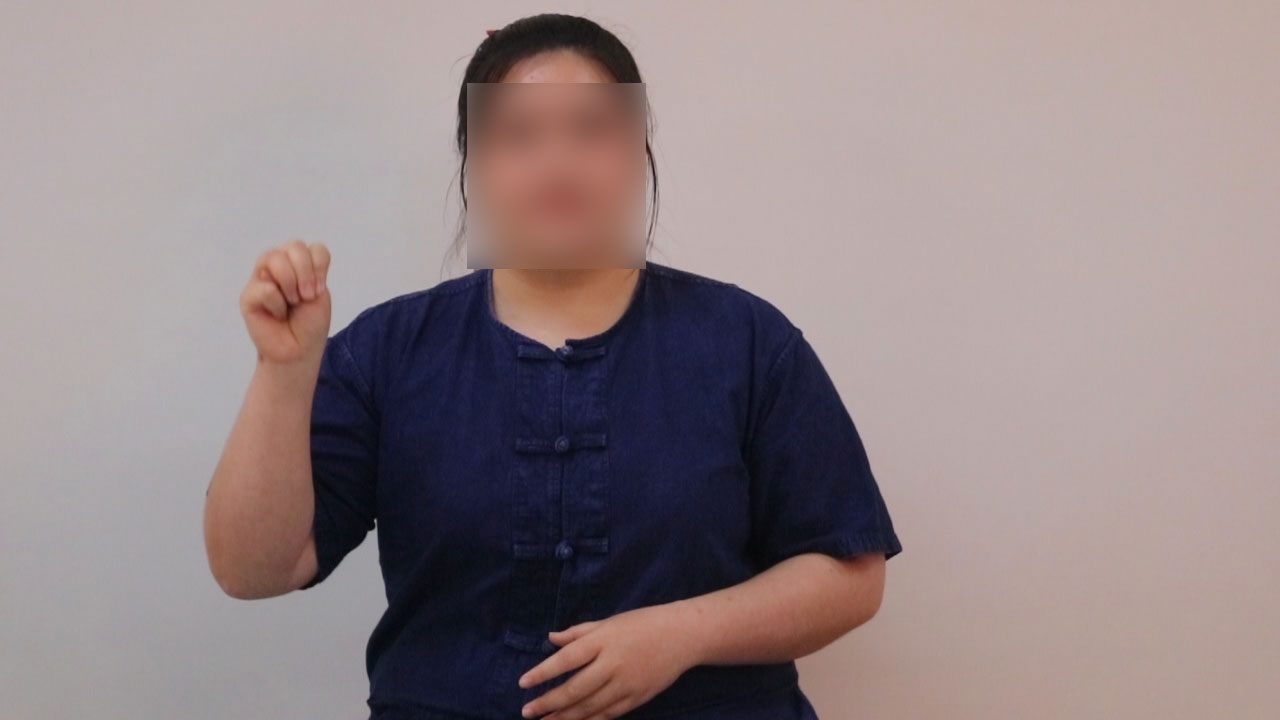mor: (237, 223, 339, 377)
